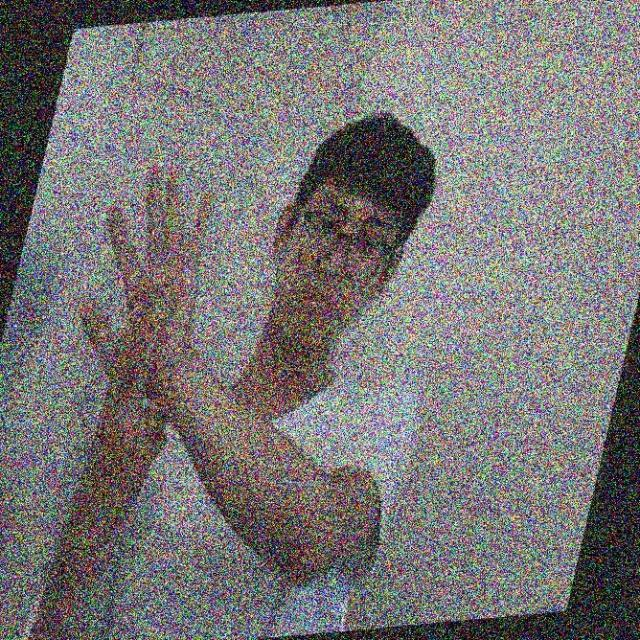N: (69, 162, 221, 416)
